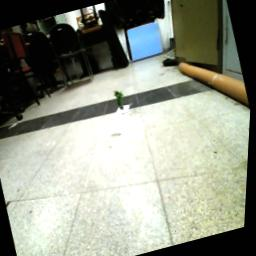herb: (114, 89, 128, 111)
